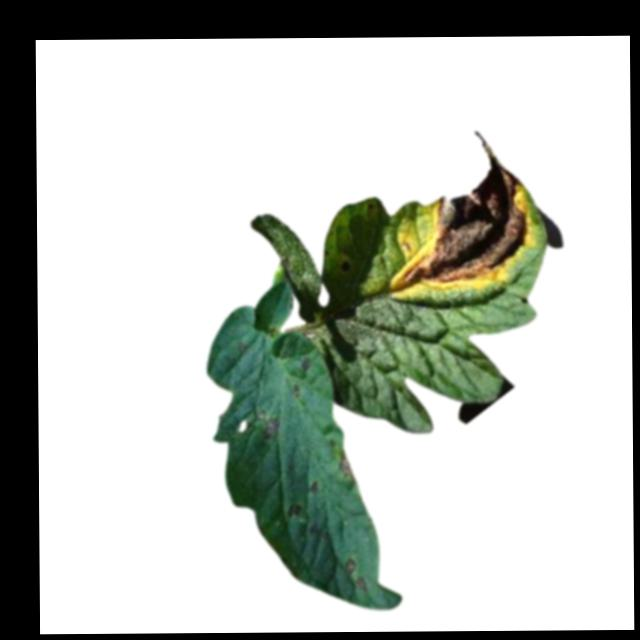Early_blight: (380, 131, 529, 298), (260, 414, 280, 439), (337, 454, 354, 476), (340, 556, 356, 574), (287, 500, 302, 518), (300, 354, 312, 370), (352, 578, 364, 590)
